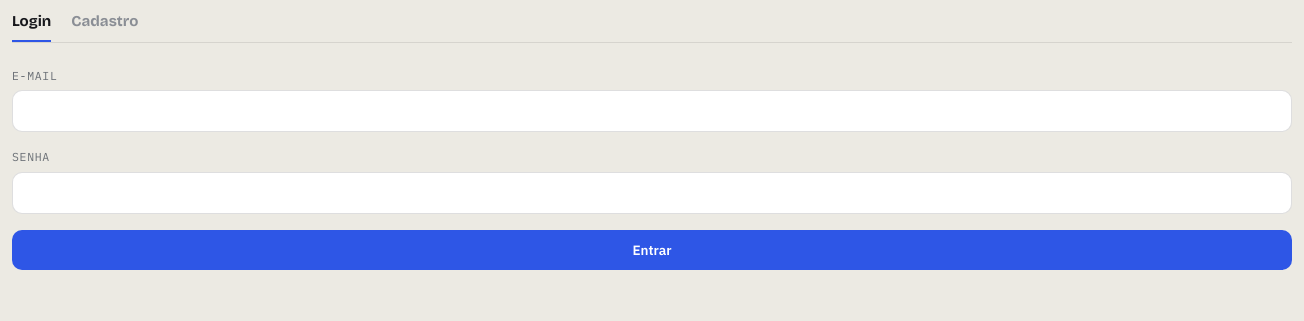
Test case: AuthForm › shows the API error message when login fails
In the field labelled "E-mail": (652, 111) [12,90,1292,132], type "ana@example.com"
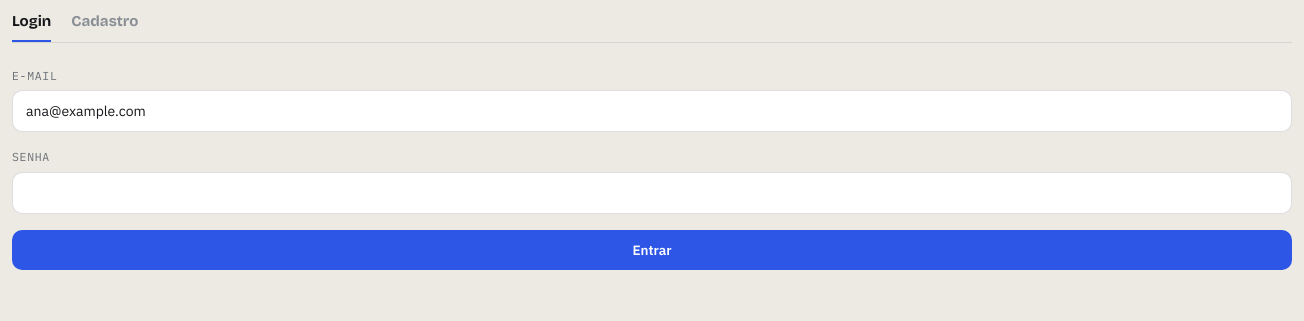
In the password field labelled "Senha": (652, 192) [12,172,1292,214], type "senhaerrada"
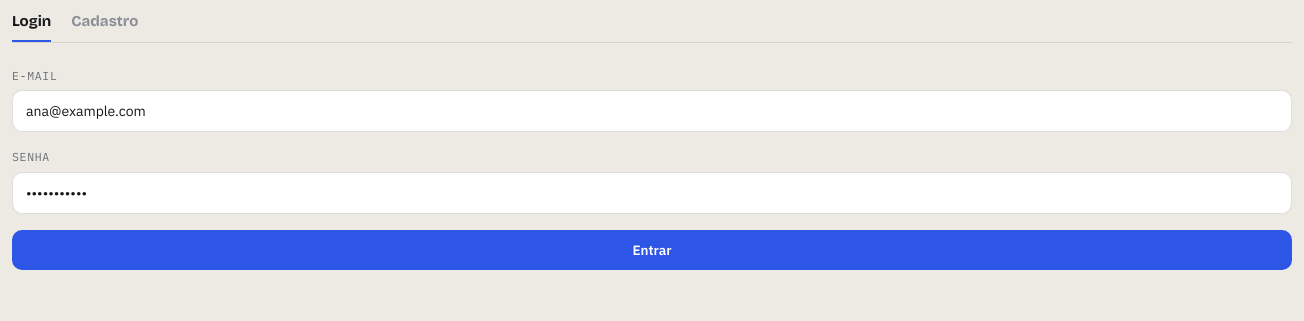
Click the button "Entrar": (652, 250) [12,230,1292,270]
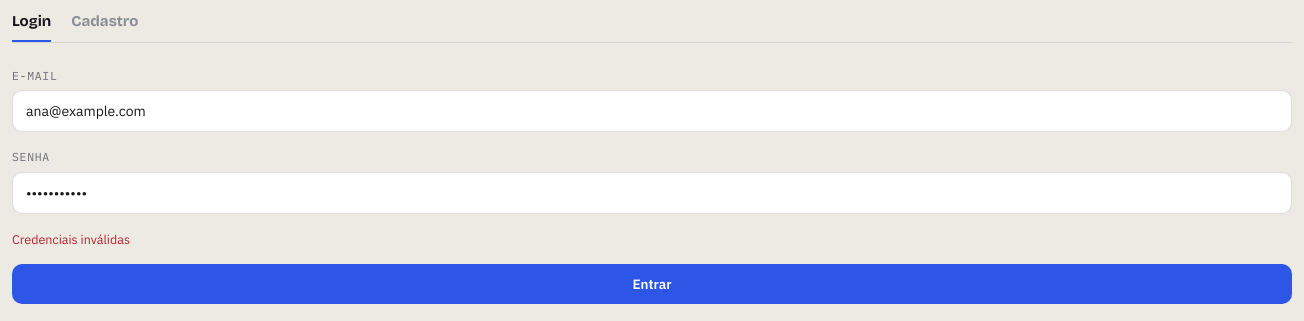
Now the text "Credenciais inválidas" is shown, box [12,230,130,246]
